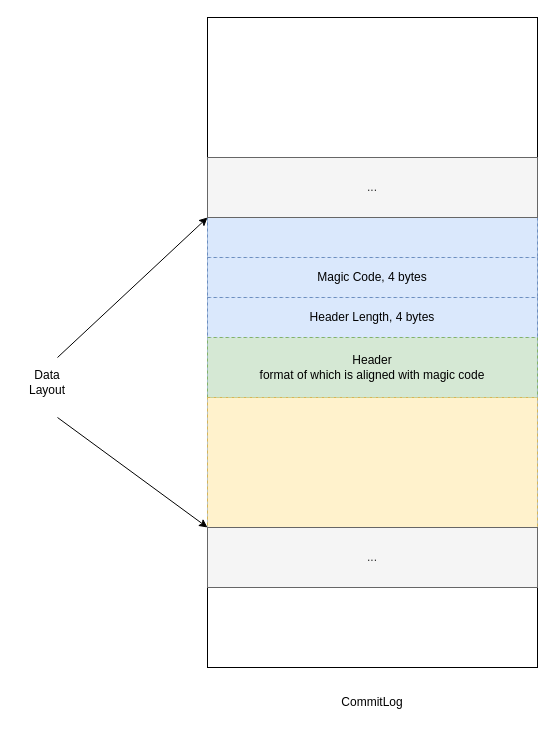
Image size: 555x735. Some labels were removed from this diagram. Here are the shapes that lost their labels. From the top down, the centre of each, then its label:
At point (372, 237): "Total Frame Length, 4 bytes".
At point (372, 462): "Data Body".
